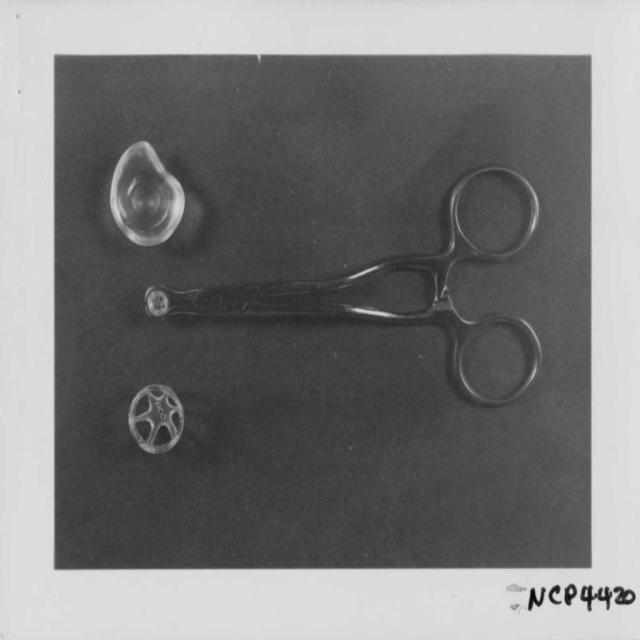scissors: (142, 163, 542, 407)
